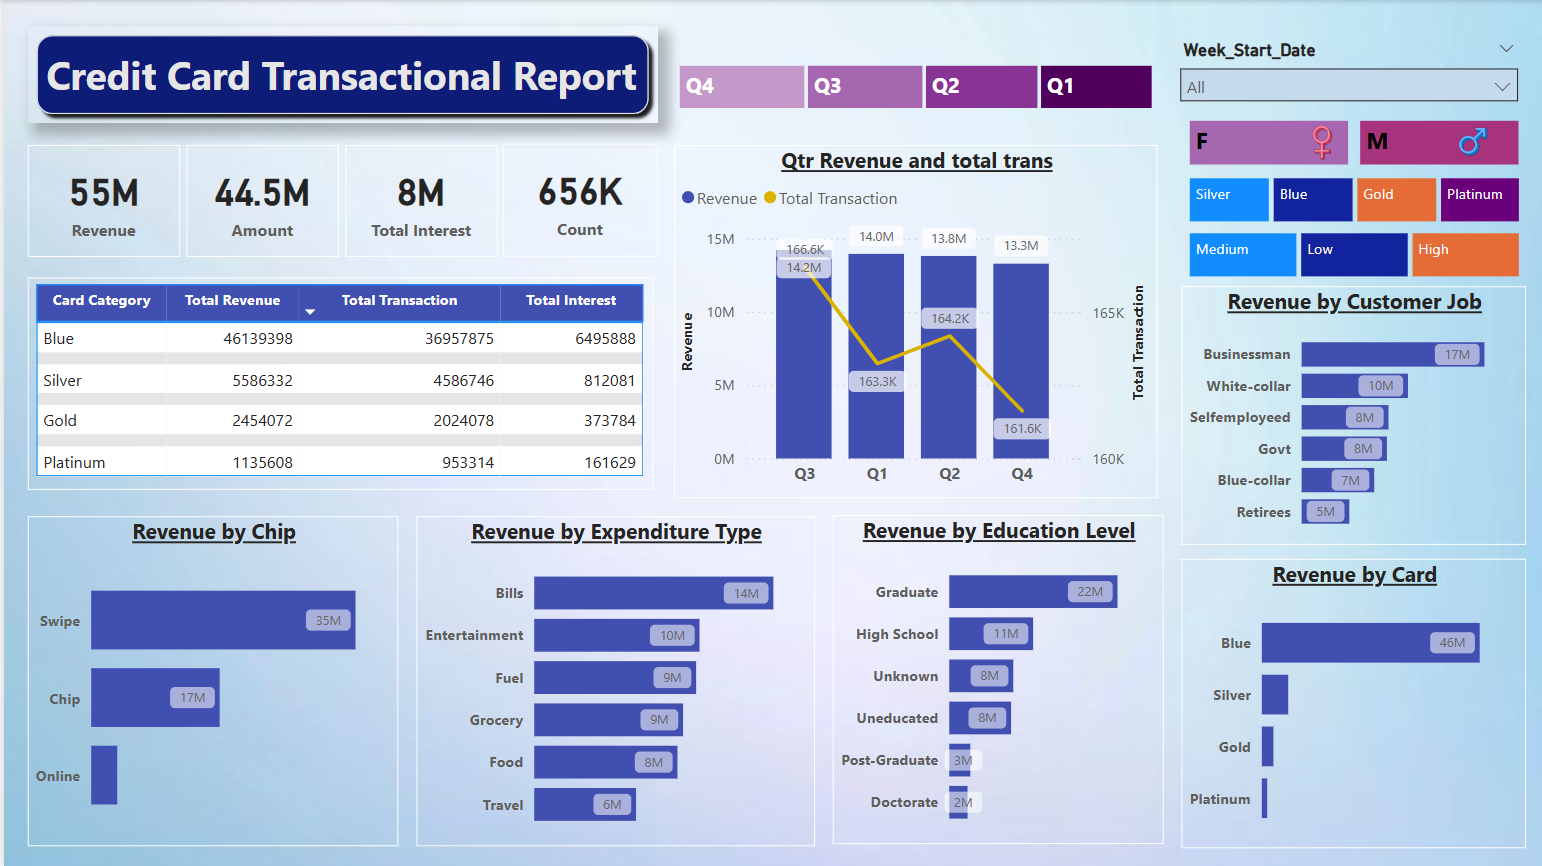

This screenshot's page, from the dashboard's own definition file:
{"tool":"powerbi","page":{"name":"Credit Card Transactional Report","canvas":[1280,720],"ordinal":0},"visuals":[{"type":"lineStackedColumnComboChart","title":"Qtr Revenue and total trans","fields":{"Category":["cc_detail.New_Qtr"],"Y":["Sum(cc_detail.Revenue)"],"Y2":["Sum(cc_detail.Total_Trans_Vol)"]},"box":[555.3,119.8,401.2,293],"z":0},{"type":"barChart","title":"Revenue by Expenditure Type","fields":{"Y":["Sum(cc_detail.Revenue)"],"Category":["cc_detail.Exp_Type"]},"box":[342.1,427.5,330,273.8],"z":1000},{"type":"barChart","title":"Revenue by Education Level","fields":{"Y":["Sum(cc_detail.Revenue)"],"Category":["cust_detail.Education_Level"]},"box":[686.8,427.1,274.3,272.9],"z":2000},{"type":"barChart","title":"Revenue by Customer Job","fields":{"Y":["Sum(cc_detail.Revenue)"],"Category":["cust_detail.Customer_Job"]},"box":[975.7,237.1,285.7,214.3],"z":3000},{"type":"barChart","title":"Revenue by Card","fields":{"Y":["Sum(cc_detail.Revenue)"],"Category":["cc_detail.Card_Category"]},"box":[975.7,462.9,285.7,240],"z":4000},{"type":"barChart","title":"Revenue by Chip","fields":{"Y":["Sum(cc_detail.Revenue)"],"Category":["cc_detail.Use_Chip"]},"box":[20,427.5,307.5,273.8],"z":5000},{"type":"tableEx","fields":{"Values":["cc_detail.Card_Category","Sum(cc_detail.Revenue)","Sum(cc_detail.Total_Trans_Amt)","Sum(cc_detail.Interest_Earned)"]},"box":[20,230,518.8,176.2],"z":6000},{"type":"card","title":"Revenue","fields":{"Values":["Sum(cc_detail.Revenue)"]},"box":[19.8,120.6,126.5,93],"z":7000},{"type":"card","fields":{"Values":["Sum(cc_detail.Total_Trans_Amt)"]},"box":[151.3,120.6,126.5,93],"z":8000},{"type":"card","fields":{"Values":["Sum(cc_detail.Interest_Earned)"]},"box":[282.8,120.6,126.5,93],"z":9000},{"type":"card","fields":{"Values":["Sum(cc_detail.Total_Trans_ct)"]},"box":[413.8,118.8,128.8,93.8],"z":10000},{"type":"shape","box":[19.8,22.1,522.1,80.2],"z":11000},{"type":"textbox","box":[30.2,34.9,508.1,57],"z":12000},{"type":"slicer","fields":{"Values":["cc_detail.Week_Start_Date"]},"box":[965,27.5,300,67.5],"z":13000},{"type":"treemap","fields":{"Values":["Avg(cc_detail.Client_Num)"],"Group":["cc_detail.New_Qtr"]},"box":[555,50,401.2,45],"z":14000},{"type":"treemap","fields":{"Values":["Avg(cc_detail.Client_Num)"],"Group":["cust_detail.Gender"]},"box":[978.6,95.3,282.5,46.2],"z":15000,"group":"g1"},{"type":"treemap","fields":{"Values":["Avg(cc_detail.Client_Num)"],"Group":["cc_detail.Card_Category"]},"box":[978.6,142.9,282.9,45.7],"z":16000},{"type":"treemap","fields":{"Values":["Avg(cc_detail.Client_Num)"],"Group":["cust_detail.IncomeGroup"]},"box":[978.6,188.6,282.9,45.7],"z":17000},{"type":"image","box":[1074.8,99.1,37.5,37.5],"z":18000,"group":"g1"},{"type":"image","box":[1201.1,97.8,33.8,40],"z":19000,"group":"g1"},{"type":"group","id":"g1","title":"Group 1","box":[978.6,95.3,282.5,46.2],"z":19001}]}

Visuals, with their boxes in screenshot pixels (x1, y1, x2, y2), scaled from the page's 1280x720 canvas onto the 1542x866 screenshot:
"Qtr Revenue and total trans" lineStackedColumnComboChart: crop(669, 144, 1152, 497)
"Revenue by Expenditure Type" barChart: crop(412, 514, 810, 844)
"Revenue by Education Level" barChart: crop(827, 514, 1158, 842)
"Revenue by Customer Job" barChart: crop(1175, 285, 1520, 543)
"Revenue by Card" barChart: crop(1175, 557, 1520, 845)
"Revenue by Chip" barChart: crop(24, 514, 395, 844)
tableEx - cc_detail.Card_Category x Sum(cc_detail.Revenue): crop(24, 277, 649, 489)
"Revenue" card: crop(24, 145, 176, 257)
card - Sum(cc_detail.Total_Trans_Amt): crop(182, 145, 335, 257)
card - Sum(cc_detail.Interest_Earned): crop(341, 145, 493, 257)
card - Sum(cc_detail.Total_Trans_ct): crop(498, 143, 654, 256)
shape: crop(24, 27, 653, 123)
textbox: crop(36, 42, 648, 111)
slicer - cc_detail.Week_Start_Date: crop(1163, 33, 1524, 114)
treemap - Avg(cc_detail.Client_Num) x cc_detail.New_Qtr: crop(669, 60, 1152, 114)
treemap - Avg(cc_detail.Client_Num) x cust_detail.Gender: crop(1179, 115, 1519, 170)
treemap - Avg(cc_detail.Client_Num) x cc_detail.Card_Category: crop(1179, 172, 1520, 227)
treemap - Avg(cc_detail.Client_Num) x cust_detail.IncomeGroup: crop(1179, 227, 1520, 282)
image: crop(1295, 119, 1340, 164)
image: crop(1447, 118, 1488, 166)
"Group 1" group: crop(1179, 115, 1519, 170)
